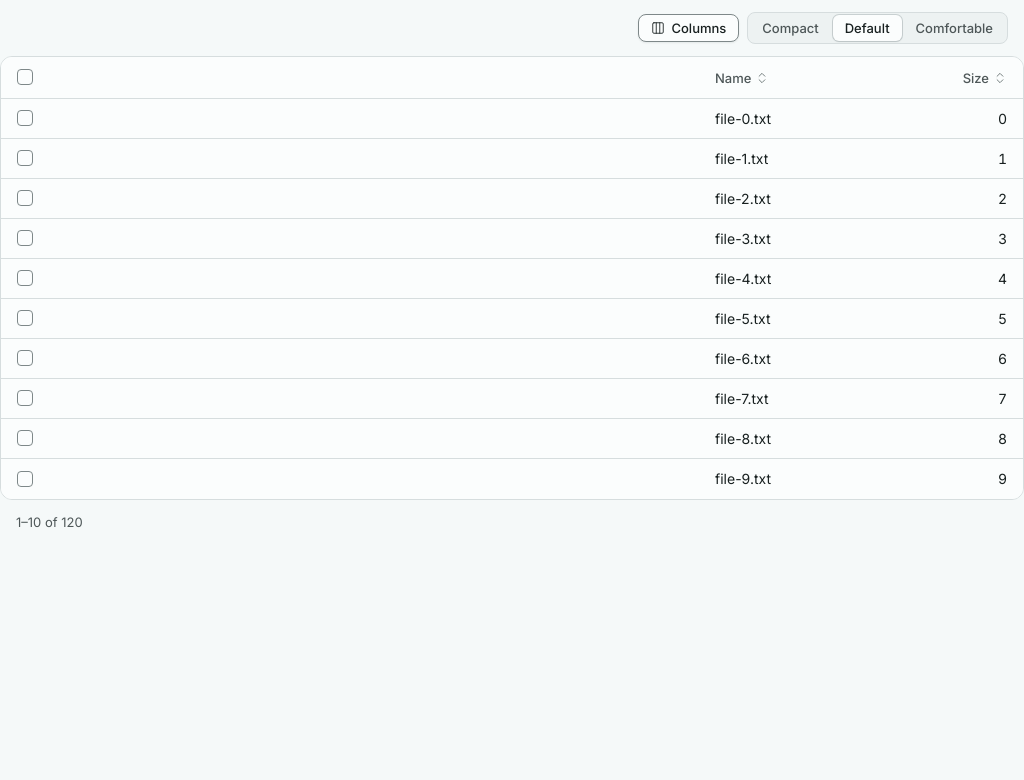
it: DataTable keyboard › clears the selection, including all matching, with Escape
The image size is (1024, 780).
Step 1. Press a in the row "file-0.txt 0", box left=1, top=99, right=1023, bottom=139
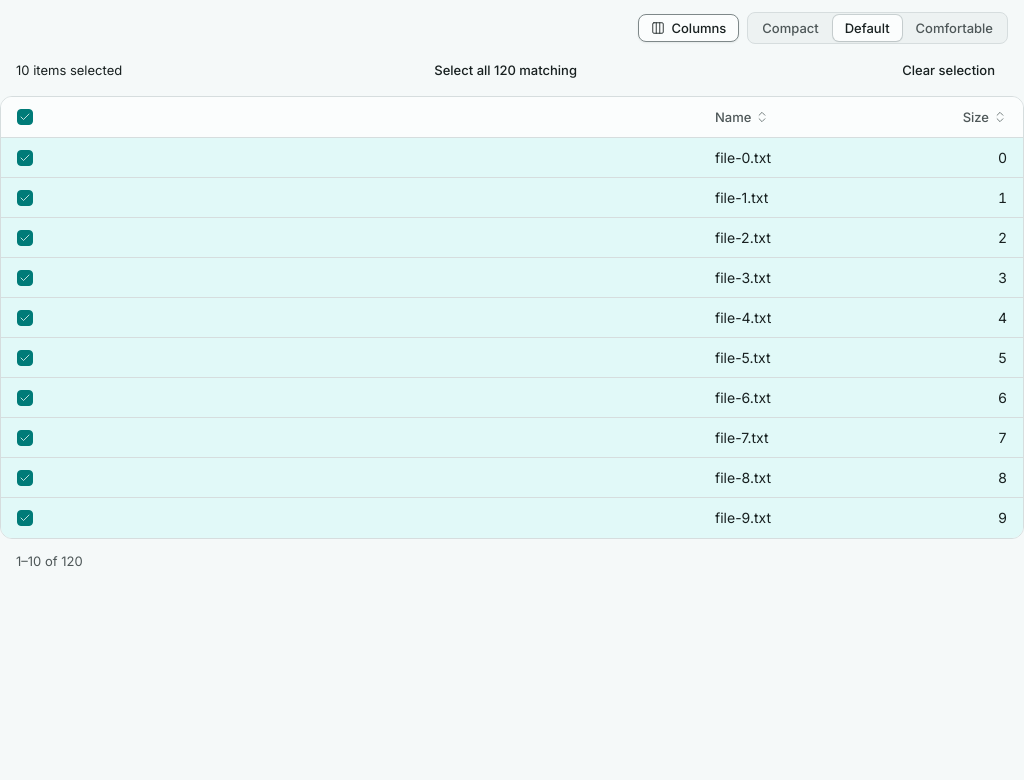
Step 2. Click the button "Select all 120 matching" → [506, 70], box left=421, top=56, right=590, bottom=84
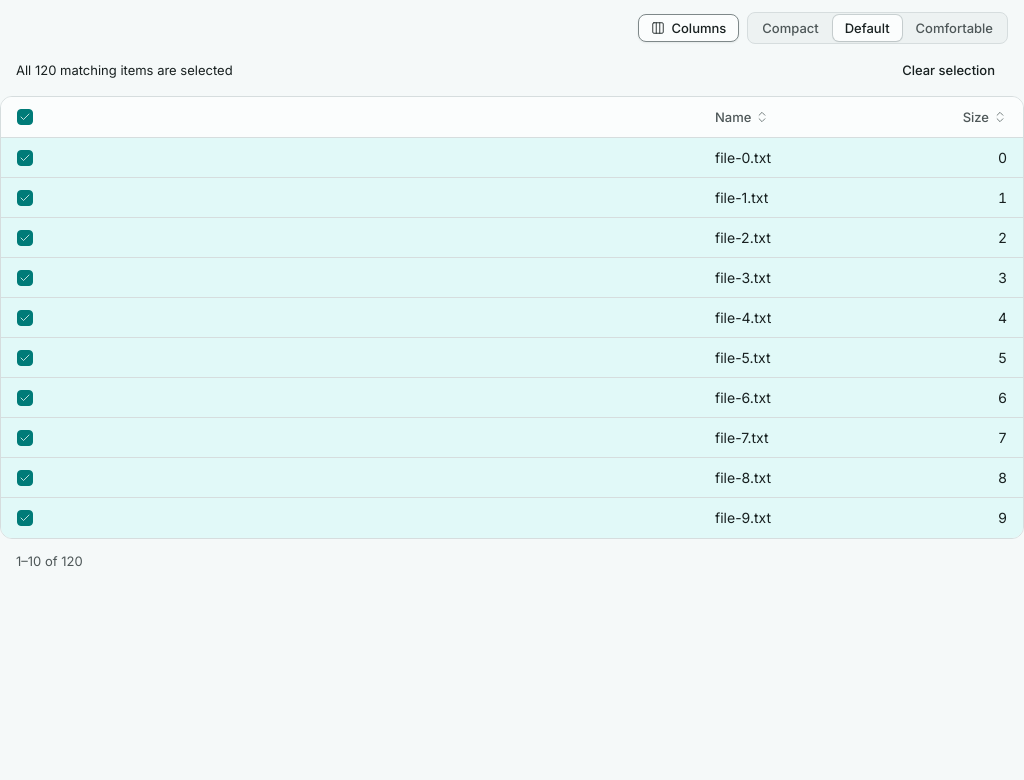
Step 3. Press Escape in the row "file-0.txt 0", box left=1, top=138, right=1023, bottom=178
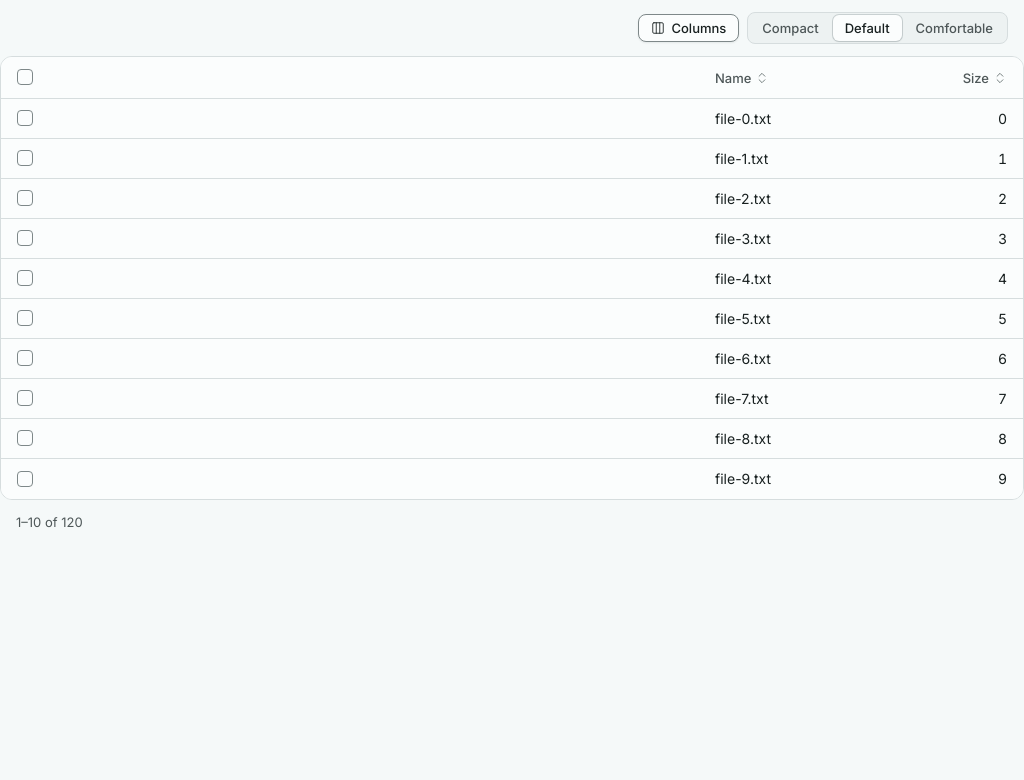
Result: the button "Clear selection" is gone
